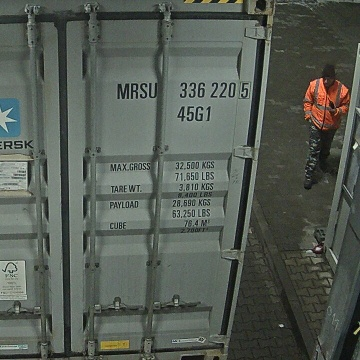serial_id: (117, 82, 249, 98)
